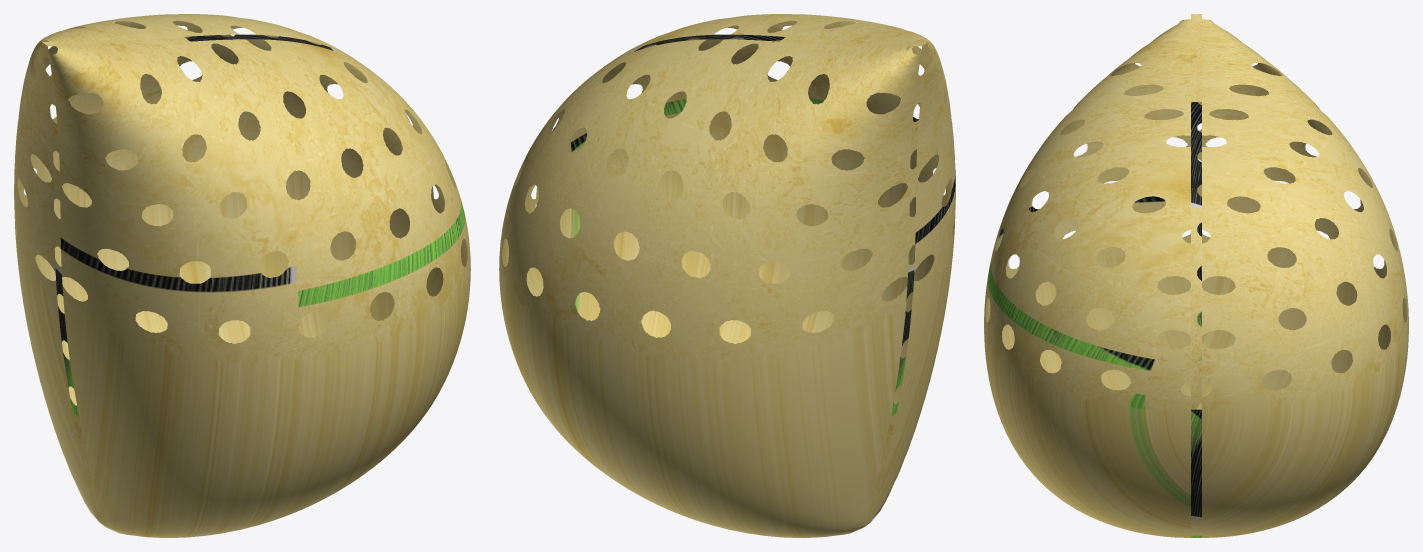
The model's file is performetim.glb.
The picture shows the model from 3 angles, left to right: view 1: azimuth 30°, elevation 25°; view 2: azimuth 150°, elevation 25°; view 3: azimuth 270°, elevation 25°; orthographic projection. The views are drawn at different scales.
Visible parts, largest first — view 1: unnamed 2; view 2: unnamed 2; view 3: unnamed 2.
Boxes of the visible parts, left/top/right/bottom form: unnamed 2: left=14, top=14, right=470, bottom=537; unnamed 2: left=499, top=14, right=955, bottom=537; unnamed 2: left=984, top=14, right=1408, bottom=537.
Bounding box in the file's own units: 2.97 × 3.68 × 3.21.
Materials: 1 (1 with a texture image).
